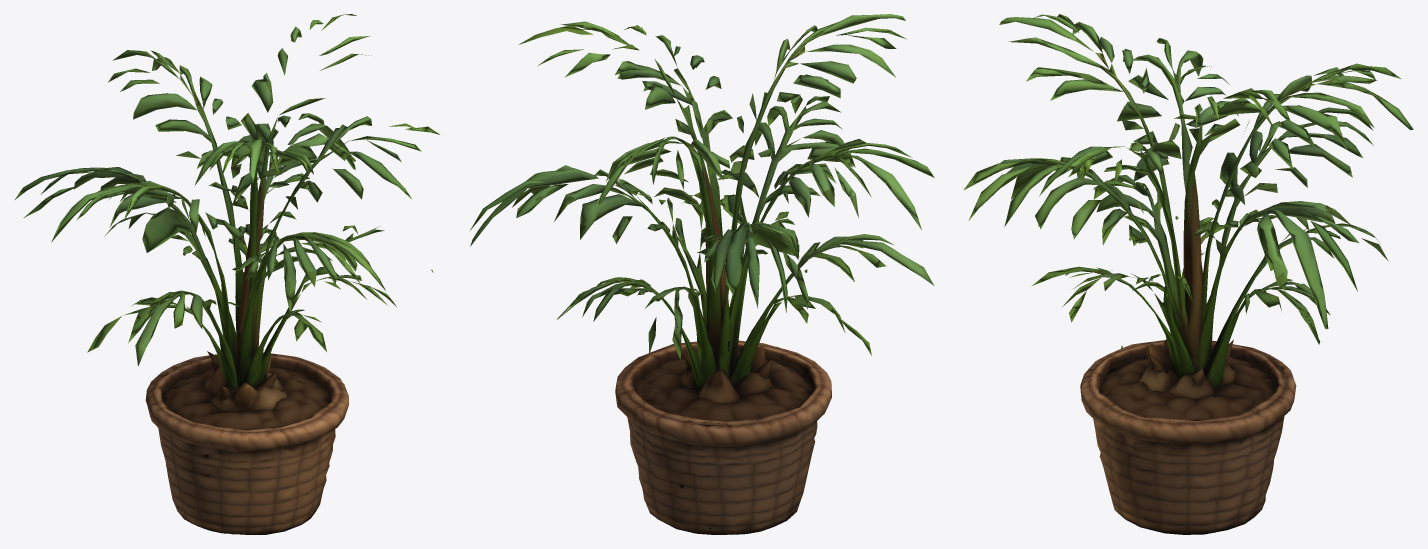
Rendered from teakitchen_large_indoor_plant3.glb.
The picture shows the model from 3 angles, left to right: view 1: azimuth 30°, elevation 25°; view 2: azimuth 150°, elevation 25°; view 3: azimuth 270°, elevation 25°; orthographic projection. The views are drawn at different scales.
Visible parts, largest first — view 1: world; view 2: world; view 3: world.
Boxes of the visible parts, x1,y1,x2,y2 form: world: (15,14,439,534); world: (469,14,934,534); world: (963,14,1413,534).
Bounding box in the file's own units: 0.8598 × 0.9984 × 0.865.
Materials: 1 (1 with a texture image).
